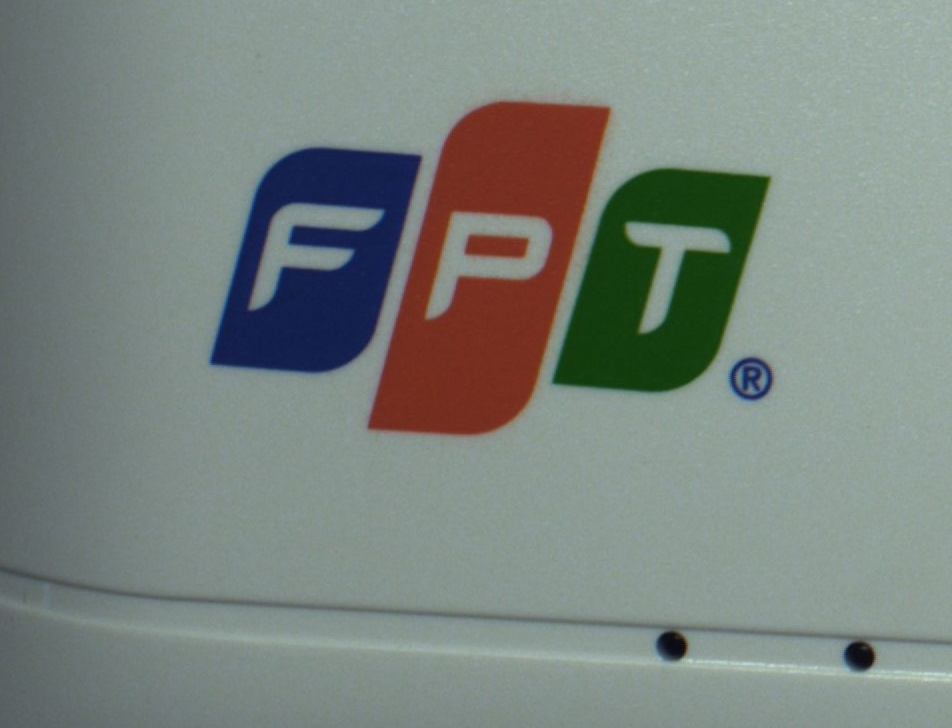BR_FPT: (186, 93, 794, 441)
